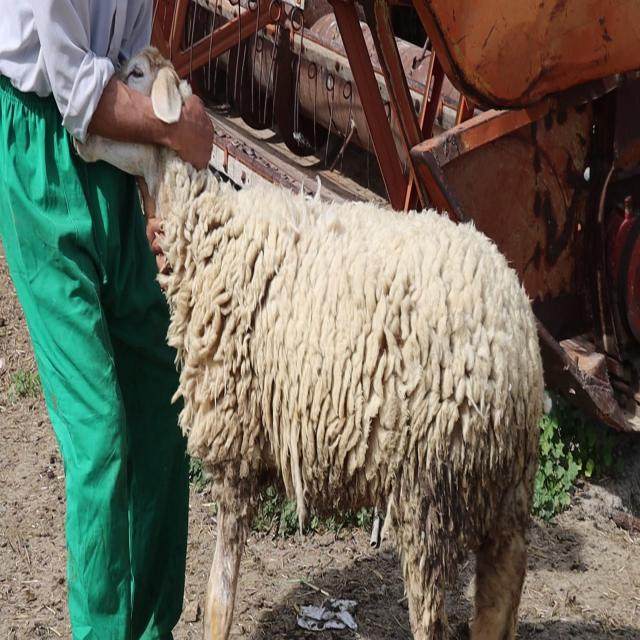Score_3: (76, 135, 544, 639)
